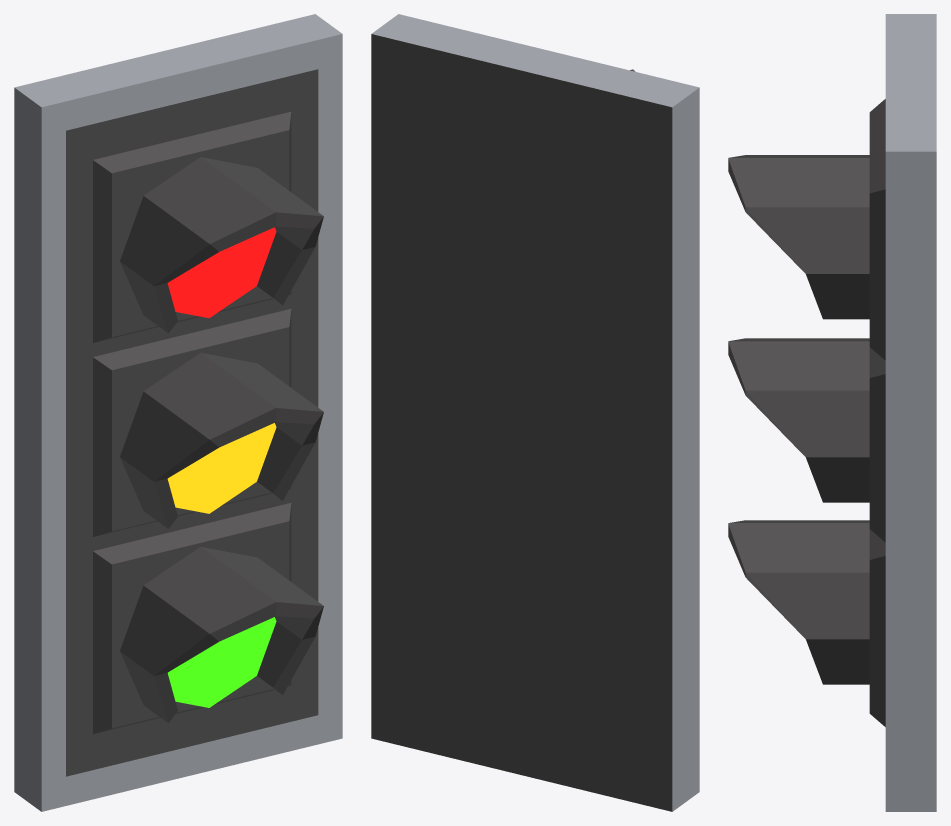
The model's file is SM_Prop_TrafficLight_03.fbx.
3 renders of one model, left to right at view 1: azimuth 30°, elevation 25°; view 2: azimuth 150°, elevation 25°; view 3: azimuth 270°, elevation 25°, orthographic. The views are drawn at different scales.
Parts seen in each view (by area): view 1: SM_Prop_TrafficLight_03; view 2: SM_Prop_TrafficLight_03; view 3: SM_Prop_TrafficLight_03.
Boxes of the visible parts, x1,y1,x2,y2 form: SM_Prop_TrafficLight_03: (14,14,342,811); SM_Prop_TrafficLight_03: (371,14,699,811); SM_Prop_TrafficLight_03: (728,14,936,811).
Size of the model in its own units: 49.64 by 111 by 31.79.
